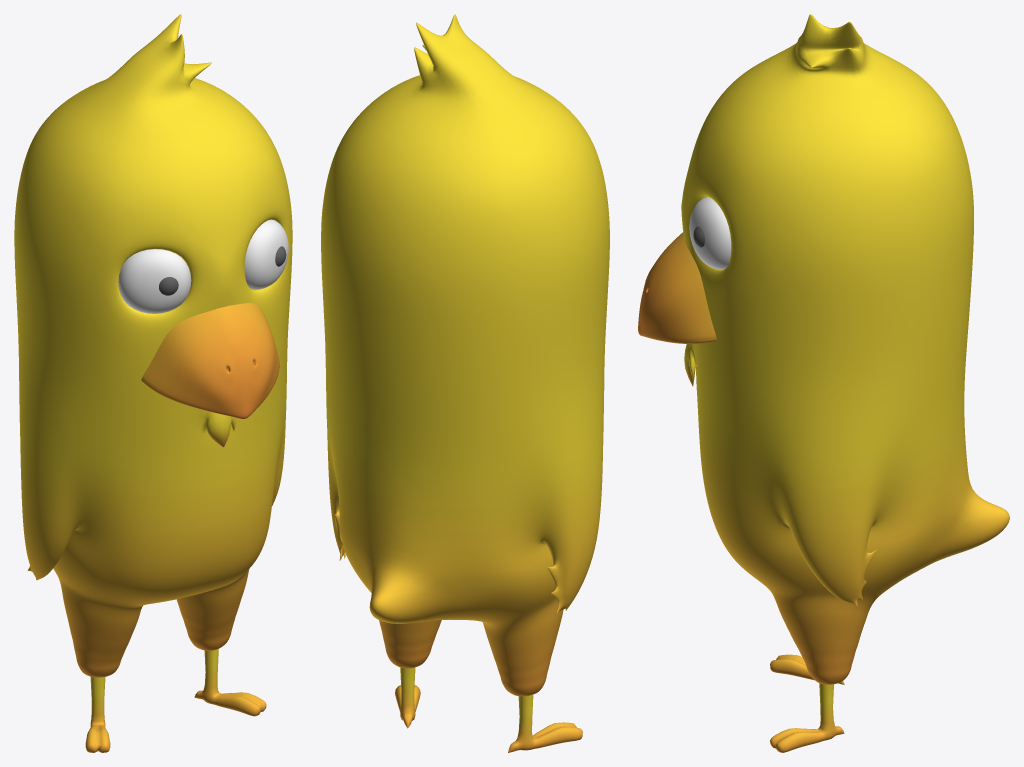
Rendered from Chicky.glb.
3 renders of one model, left to right at view 1: azimuth 30°, elevation 25°; view 2: azimuth 150°, elevation 25°; view 3: azimuth 270°, elevation 25°, orthographic. The views are drawn at different scales.
Visible parts, largest first — view 1: chicky; view 2: chicky; view 3: chicky.
Boxes of the visible parts, <box> form: chicky: <box>14,14,292,752</box>; chicky: <box>321,14,609,752</box>; chicky: <box>638,14,1009,752</box>.
Bounding box in the file's own units: 1.34 × 3.58 × 1.71.
3 materials, 1 textured.
